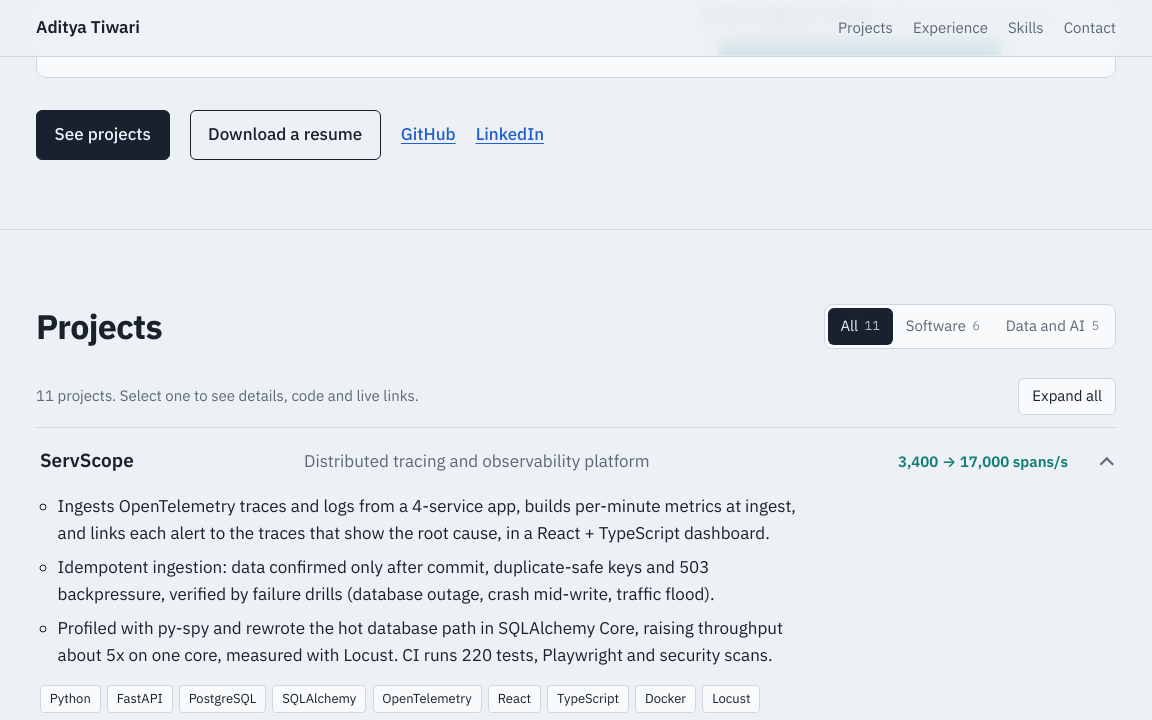
portfolio page › expand all opens every project
(page scrolled)
Step 1. Click the button "Expand all" → (1067, 396), box [1018,378,1116,415]
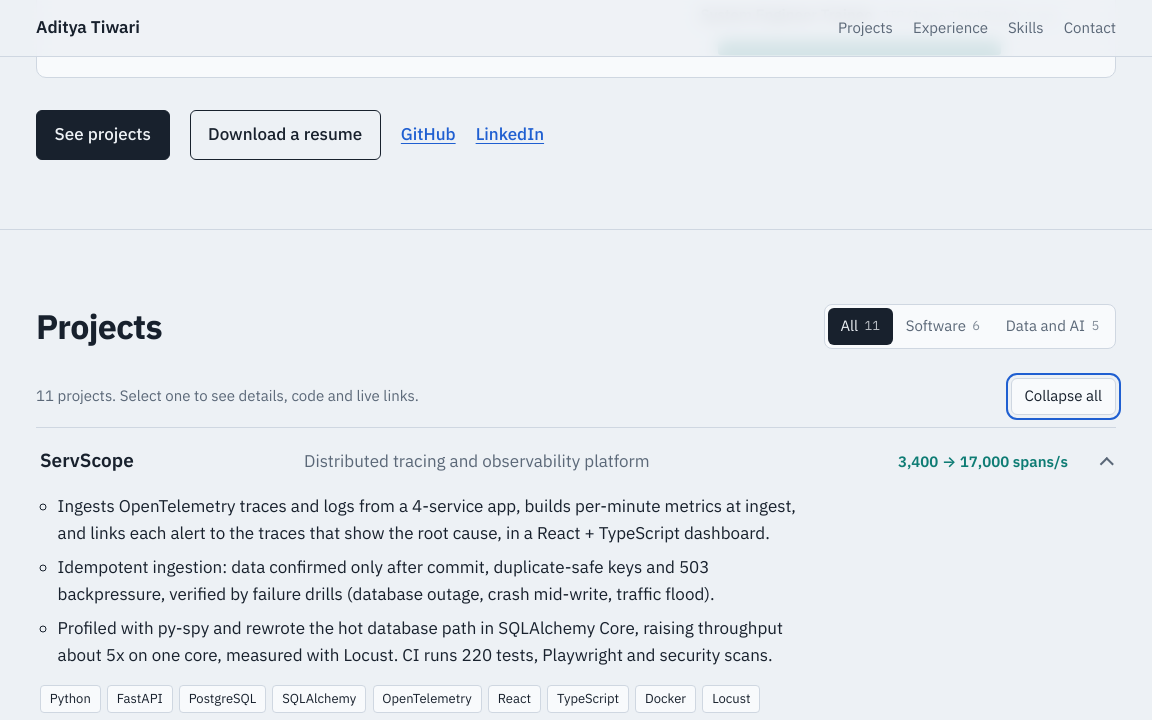
Result: the button "Collapse all" is shown at [1011,378,1116,415]
